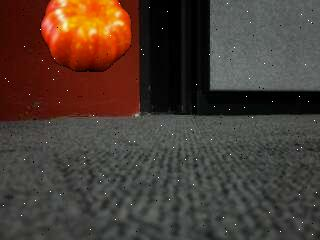Pumpkin: (39, 0, 130, 73)
